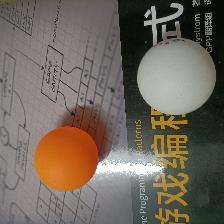WhiteBall: (136, 38, 216, 115)
YellowBall: (33, 126, 98, 191)
